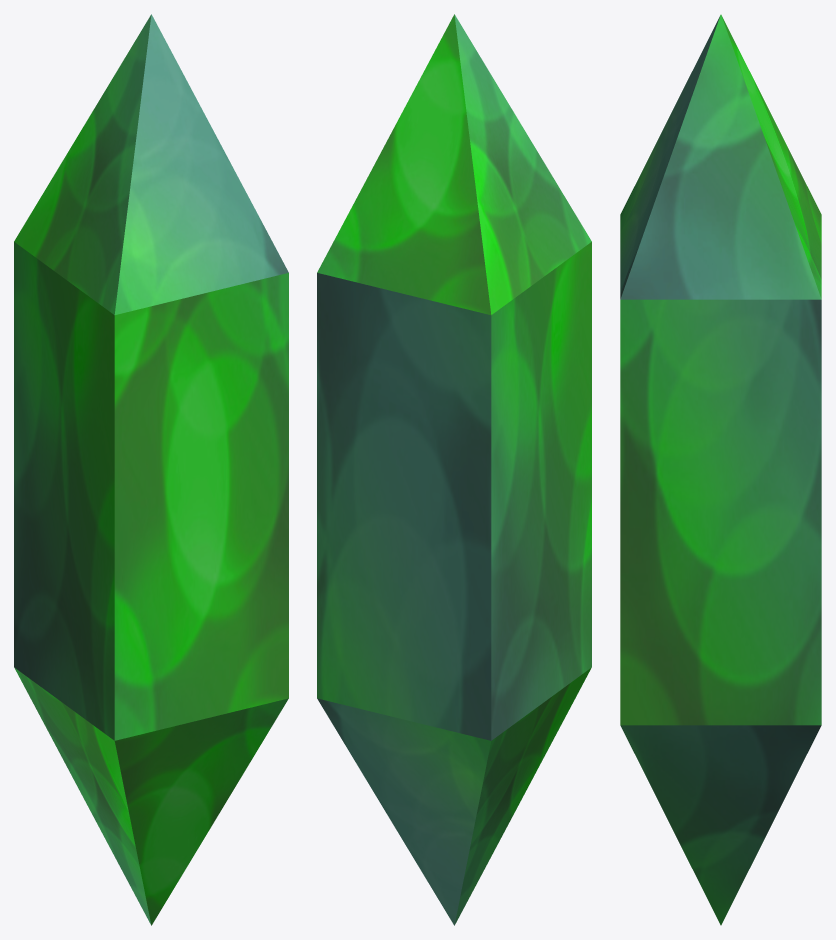
File: energy_stone_good.obj
The picture shows the model from 3 angles, left to right: view 1: azimuth 30°, elevation 25°; view 2: azimuth 150°, elevation 25°; view 3: azimuth 270°, elevation 25°; orthographic projection.
Parts seen in each view (by area): view 1: Cube, Pyramid; view 2: Cube, Pyramid; view 3: Cube, Pyramid.
Boxes of the visible parts, bbox=[...] form: Cube: bbox=[14, 242, 288, 740]; Pyramid: bbox=[14, 14, 288, 925]; Cube: bbox=[317, 242, 591, 740]; Pyramid: bbox=[317, 14, 591, 925]; Cube: bbox=[620, 299, 821, 725]; Pyramid: bbox=[620, 14, 821, 925].
Bounding box in the file's own units: 3 × 15 × 3.
